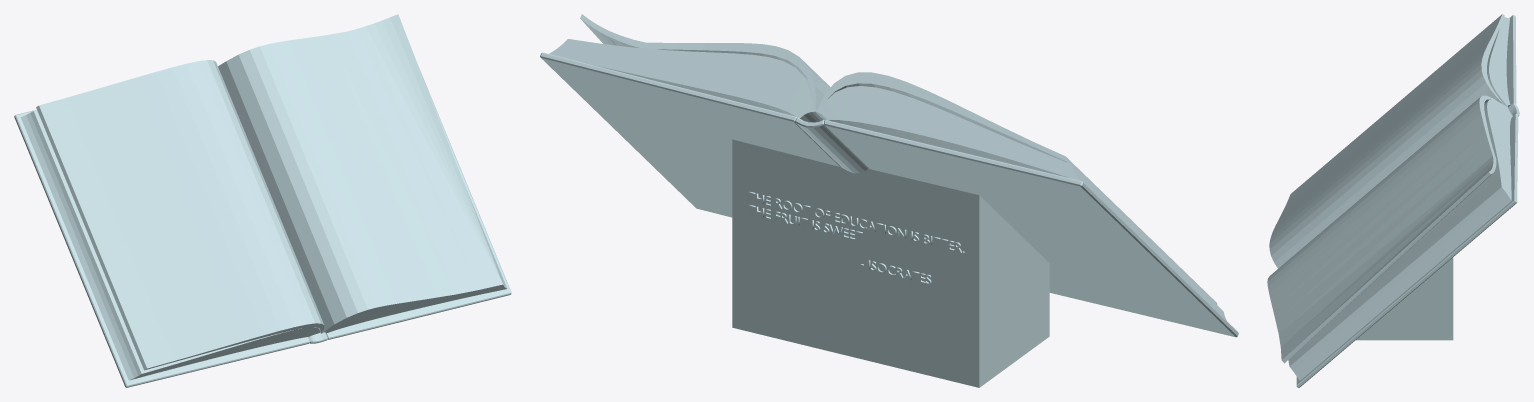
The model's file is book.glb.
The picture shows the model from 3 angles, left to right: view 1: azimuth 30°, elevation 25°; view 2: azimuth 150°, elevation 25°; view 3: azimuth 270°, elevation 25°; orthographic projection. The views are drawn at different scales.
Visible parts, largest first — view 1: Book; view 2: Book; view 3: Book.
Boxes of the visible parts, x1=… form: Book: x1=14, y1=14, x2=511, y2=387; Book: x1=540, y1=14, x2=1238, y2=387; Book: x1=1267, y1=14, x2=1519, y2=387.
Size of the model in its own units: 3.48 by 1.91 by 2.01.
